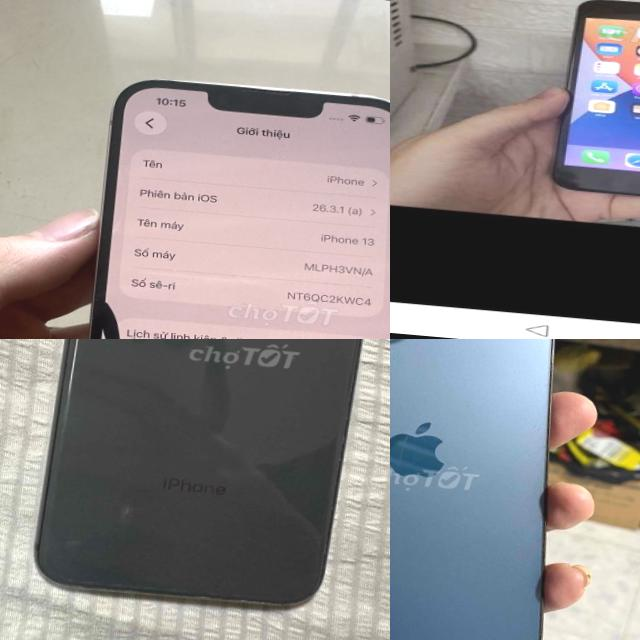scratch: (158, 580, 292, 610), (60, 339, 85, 456), (102, 502, 144, 526), (53, 530, 82, 548)
screen_defect: (63, 286, 156, 339)
